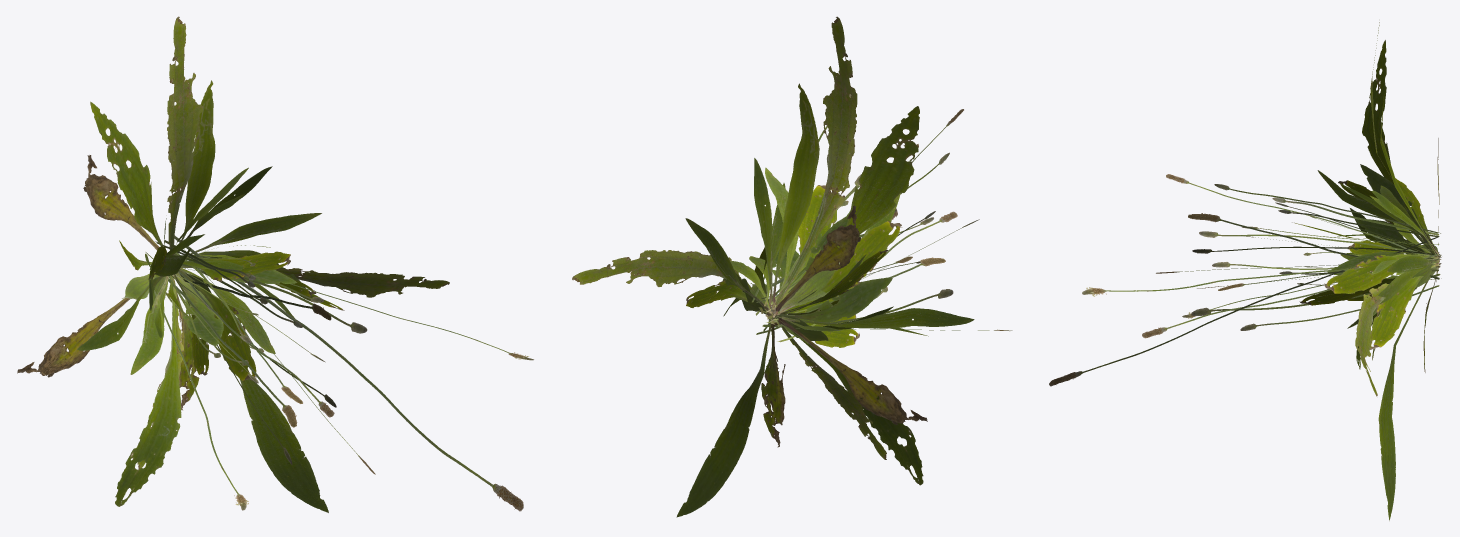
The model's file is Weed_04_Var3_LOD2.fbx.
3 renders of one model, left to right at view 1: azimuth 30°, elevation 25°; view 2: azimuth 150°, elevation 25°; view 3: azimuth 270°, elevation 25°, orthographic. The views are drawn at different scales.
Parts seen in each view (by area): view 1: Var3_LOD2; view 2: Var3_LOD2; view 3: Var3_LOD2.
Part boxes in pixels (bbox=[...]): Var3_LOD2: bbox=[17, 16, 533, 512]; Var3_LOD2: bbox=[572, 16, 1012, 517]; Var3_LOD2: bbox=[1049, 22, 1441, 520].
Bounding box in the file's own units: 51.72 × 66.86 × 54.13.
